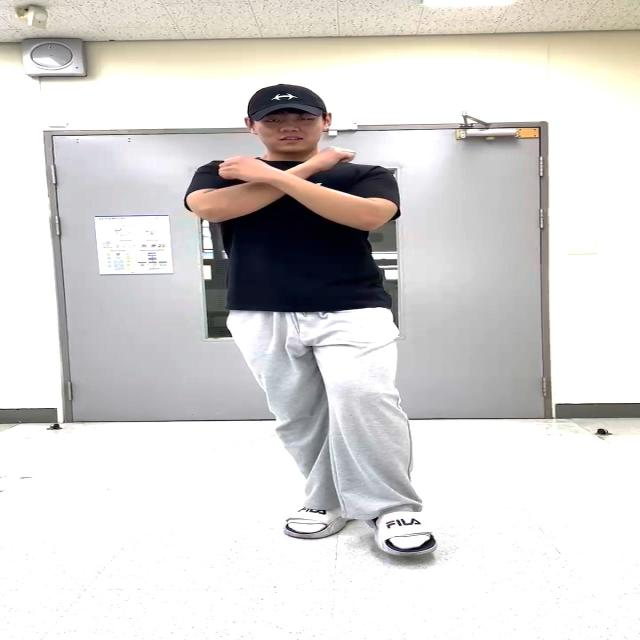leg: (305, 337, 483, 565)
